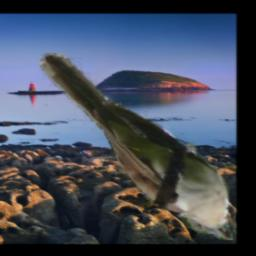Cuckoo: (40, 54, 233, 241)
